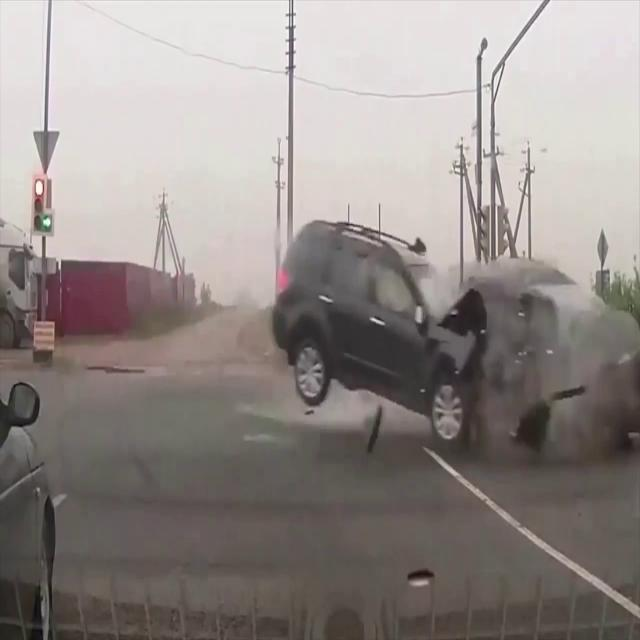accident: (270, 218, 638, 457)
